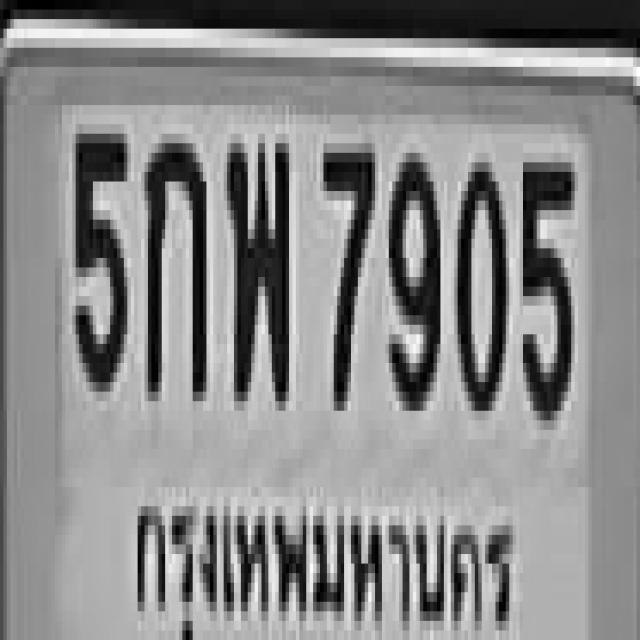0: (454, 148, 502, 396)
10GorGai: (141, 129, 203, 387)
39PhorPan: (223, 129, 286, 396)
5: (72, 124, 124, 382), (520, 148, 571, 406)
7: (320, 138, 372, 396)
9: (385, 143, 437, 401)
Bangkok: (123, 467, 523, 640)
